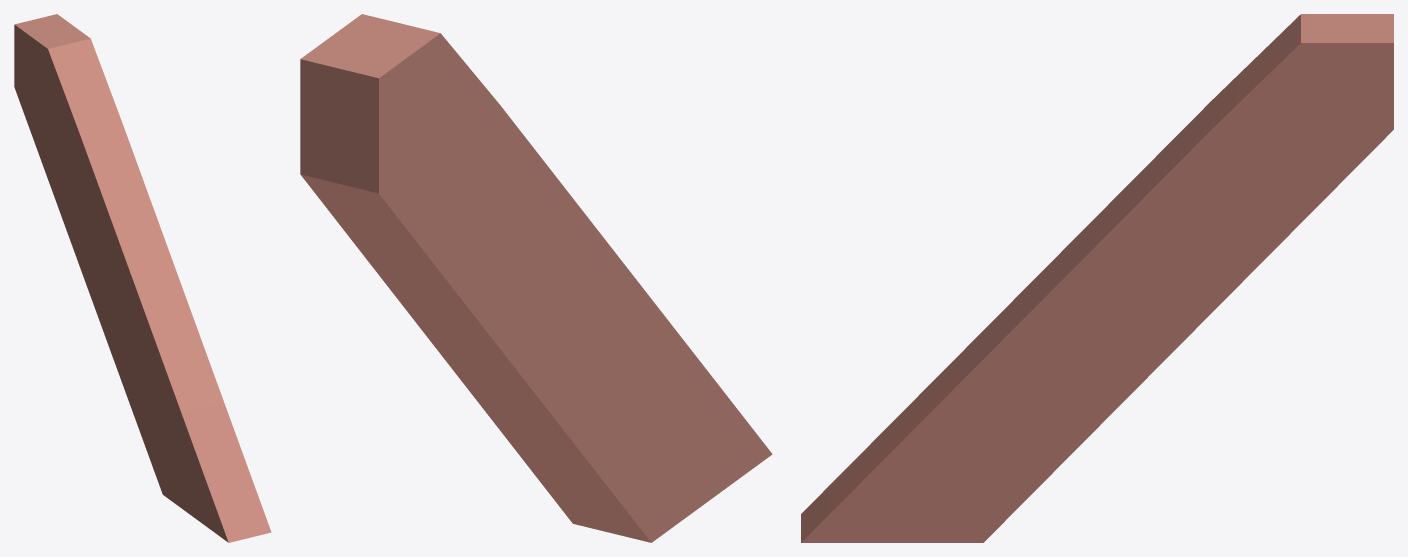
Rendered from BasicSupport03Top.fbx.
3 renders of one model, left to right at view 1: azimuth 30°, elevation 25°; view 2: azimuth 150°, elevation 25°; view 3: azimuth 270°, elevation 25°, orthographic. The views are drawn at different scales.
Visible parts, largest first — view 1: BasicSupport03Top.002; view 2: BasicSupport03Top.002; view 3: BasicSupport03Top.002.
Part boxes in pixels (x1,y1,x2,y2): BasicSupport03Top.002: (14, 14, 271, 542); BasicSupport03Top.002: (300, 14, 772, 542); BasicSupport03Top.002: (801, 14, 1393, 542).
Size of the model in its own units: 75 by 605 by 650.
